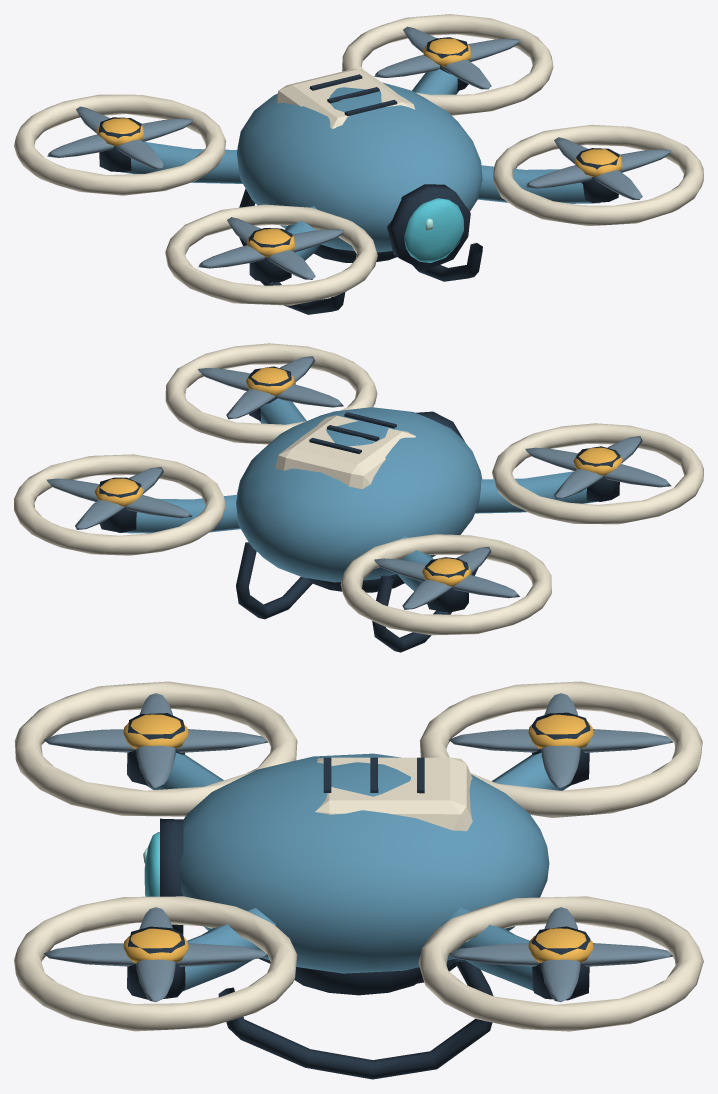
Rendered from quadcopter_low.glb.
3 views of the same model, one above another, from view 1: azimuth 30°, elevation 25°; view 2: azimuth 150°, elevation 25°; view 3: azimuth 270°, elevation 25° (orthographic). The views are drawn at different scales.
Parts seen in each view (by area): view 1: BodyMesh, Rotor3Mesh, Rotor1Mesh, Rotor2Mesh, Rotor0Mesh; view 2: BodyMesh, Rotor1Mesh, Rotor2Mesh, Rotor0Mesh, Rotor3Mesh; view 3: BodyMesh, Rotor2Mesh, Rotor1Mesh, Rotor3Mesh, Rotor0Mesh.
Part boxes in pixels (x1=…): BodyMesh: x1=14, y1=14, x2=703, y2=314; Rotor3Mesh: x1=525, y1=137, x2=671, y2=199; Rotor1Mesh: x1=374, y1=26, x2=519, y2=89; Rotor2Mesh: x1=198, y1=217, x2=344, y2=279; Rotor0Mesh: x1=47, y1=106, x2=193, y2=169; BodyMesh: x1=14, y1=343, x2=703, y2=652; Rotor1Mesh: x1=46, y1=467, x2=192, y2=529; Rotor2Mesh: x1=525, y1=436, x2=671, y2=498; Rotor0Mesh: x1=374, y1=547, x2=519, y2=609; Rotor3Mesh: x1=198, y1=356, x2=343, y2=419; BodyMesh: x1=14, y1=681, x2=703, y2=1079; Rotor2Mesh: x1=44, y1=693, x2=268, y2=788; Rotor1Mesh: x1=449, y1=907, x2=672, y2=1002; Rotor3Mesh: x1=44, y1=907, x2=267, y2=1002; Rotor0Mesh: x1=449, y1=693, x2=673, y2=788.
Bounding box in the file's own units: 2.03 × 0.7349 × 1.77.
